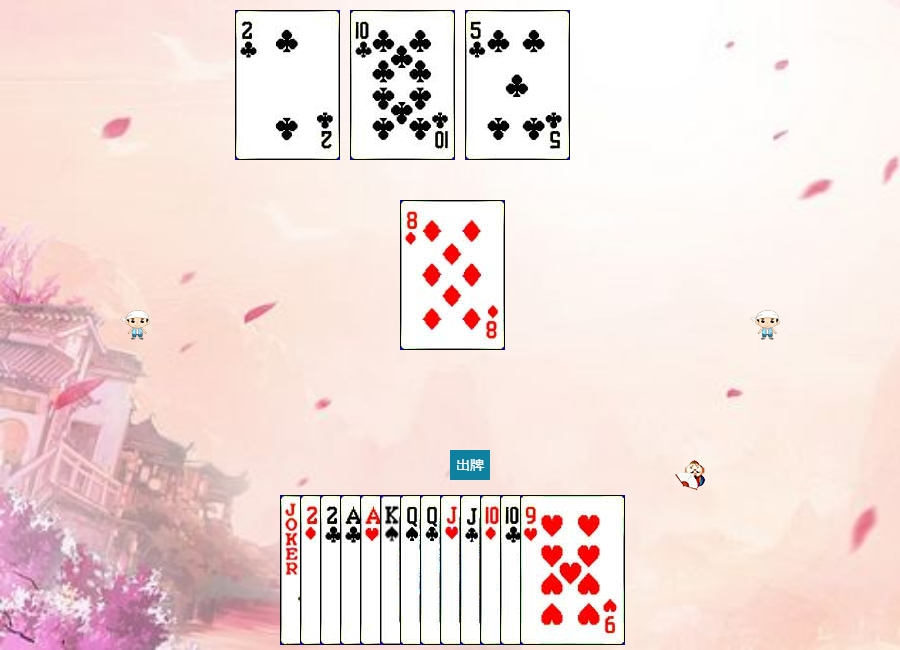10~1: (480, 495, 585, 645)
10~2: (350, 10, 455, 160), (500, 495, 605, 645)
11~2: (460, 495, 565, 645)
11~3: (440, 495, 545, 645)
12~2: (420, 495, 525, 645)
12~4: (400, 495, 505, 645)
13~4: (380, 495, 485, 645)
14~2: (340, 495, 445, 645)
14~3: (360, 495, 465, 645)
15~1: (300, 495, 405, 645)
15~2: (235, 10, 340, 160), (320, 495, 425, 645)
18~4: (280, 495, 385, 645)
5~2: (465, 10, 570, 160)
8~1: (400, 200, 505, 350)
9~3: (520, 495, 625, 645)
